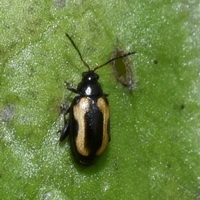insect: (60, 33, 135, 164)
